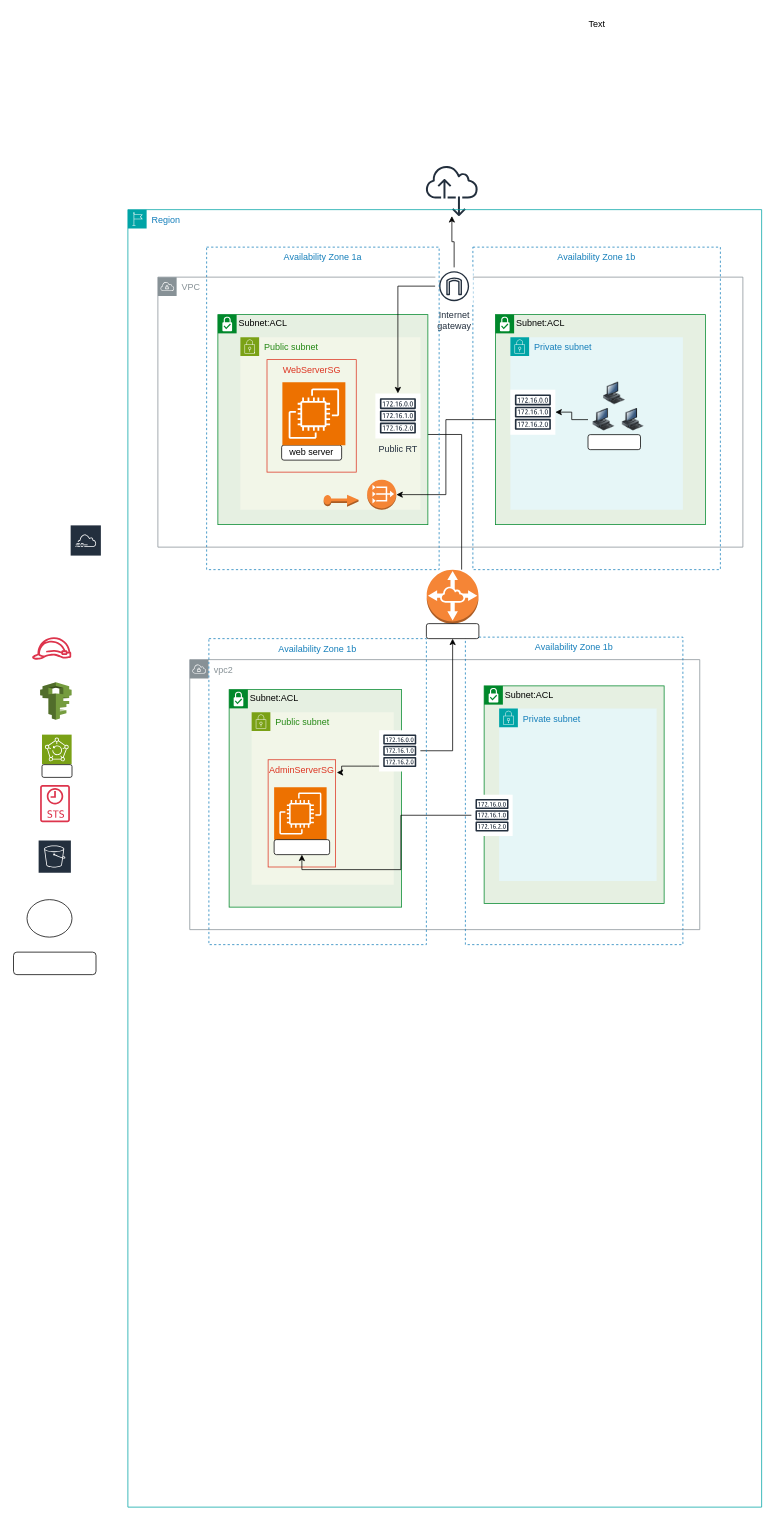
Some shapes in this 775 by 1526 pixel diagram are drawn without their labels. Each missing label, with the centre of its shape:
admin server: the point at 301,847
Amazon S3: the point at 54,865
AWS CloudTrail: the point at 85,550
backup: the point at 56,770
PostDeployment Scripts: the point at 54,963
Private RT: the point at 532,412
privateRT2: the point at 492,815
publicRT2: the point at 399,750
vpc peering: the point at 452,631
workstations: the point at 613,442
